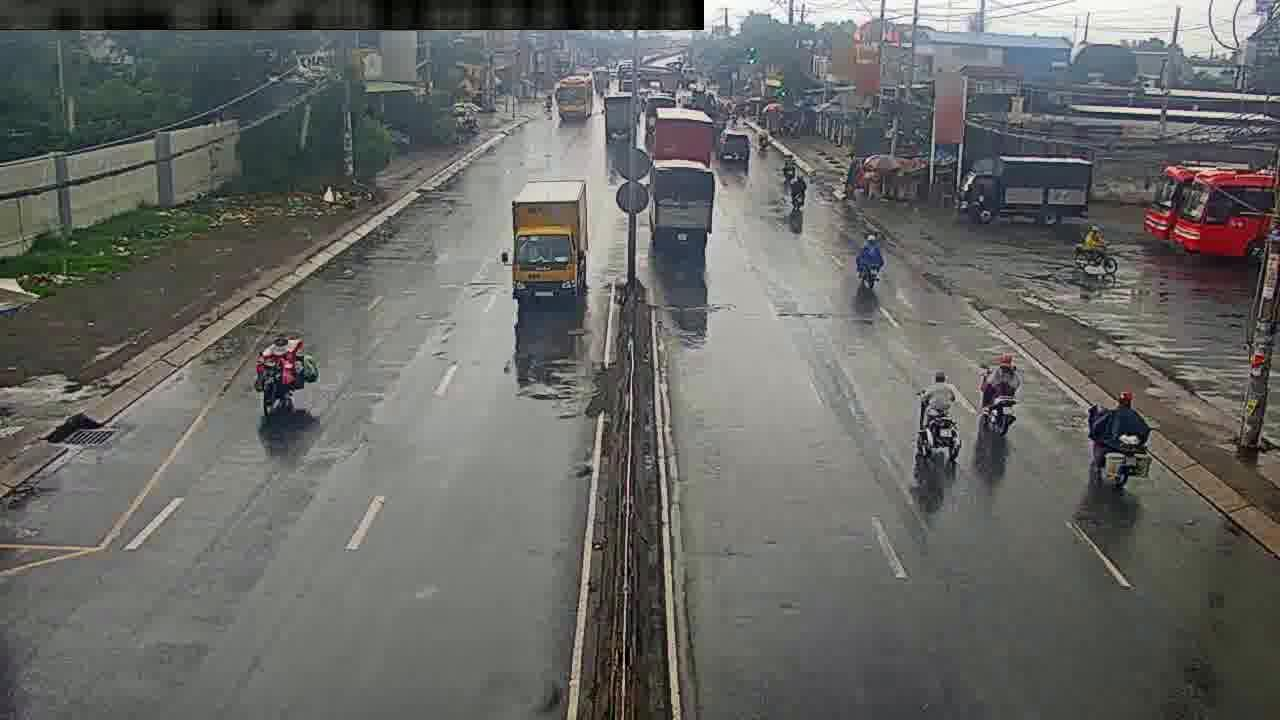14: (555, 80, 592, 121)
8: (512, 177, 588, 296), (652, 163, 711, 243), (656, 110, 714, 158)
container: (718, 128, 753, 162)
motorbike: (1100, 390, 1148, 497), (262, 323, 308, 425), (921, 375, 962, 474), (979, 344, 1018, 442), (1076, 227, 1115, 272), (858, 232, 884, 292), (786, 167, 804, 217)
